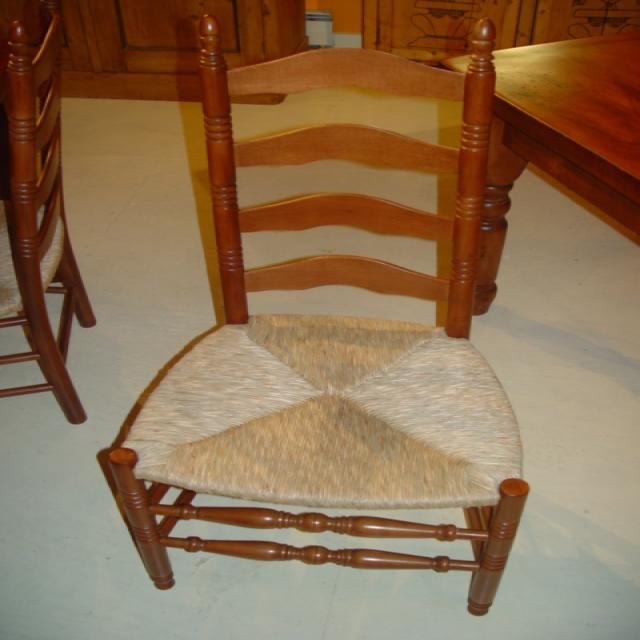chair: (96, 12, 529, 616), (0, 0, 96, 425)
